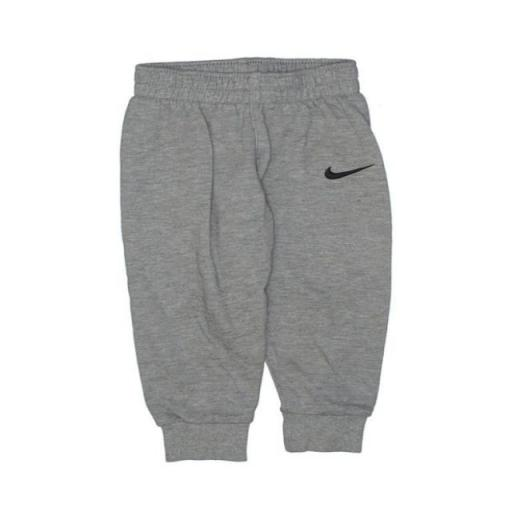Nike: (316, 160, 379, 186)
